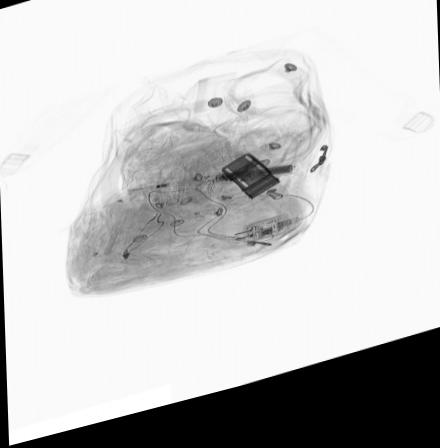Lighter: (190, 178, 275, 196)
